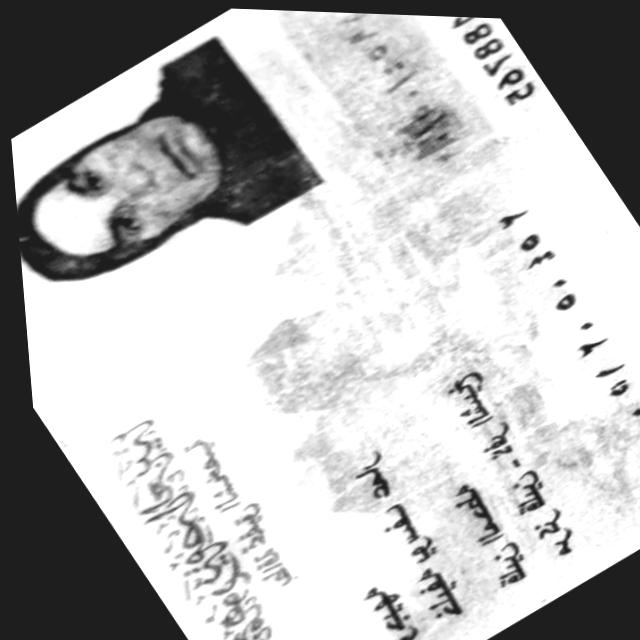id_card: (11, 9, 640, 640)
